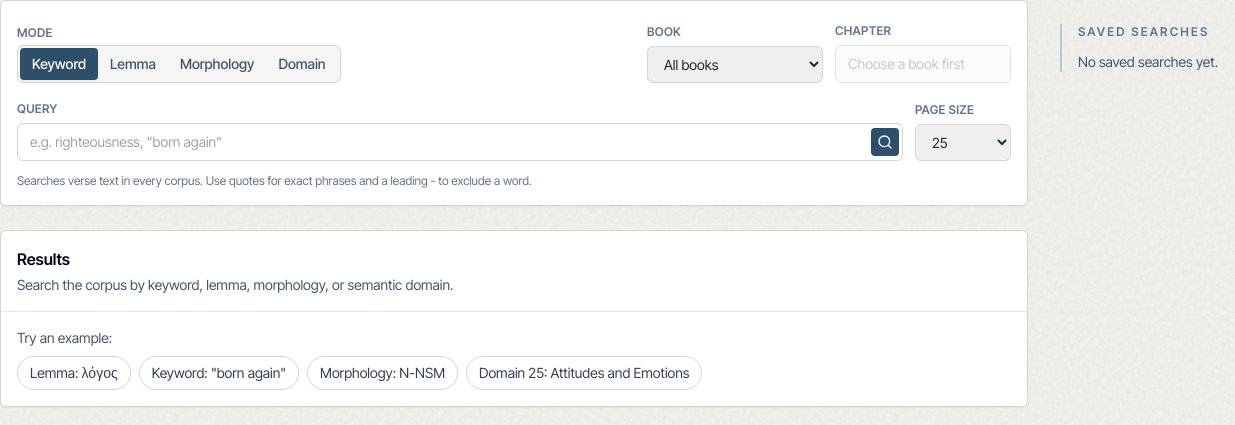
Test: SearchPanel chapter filter › disables chapter until a book is chosen
The image size is (1235, 425).
Expected: the number field with placeholder "Choose a book first" is disabled, [835,45,1011,83]
Select "John" in the dropdown labelled "Book" at (735, 64), box [647,46,823,83]
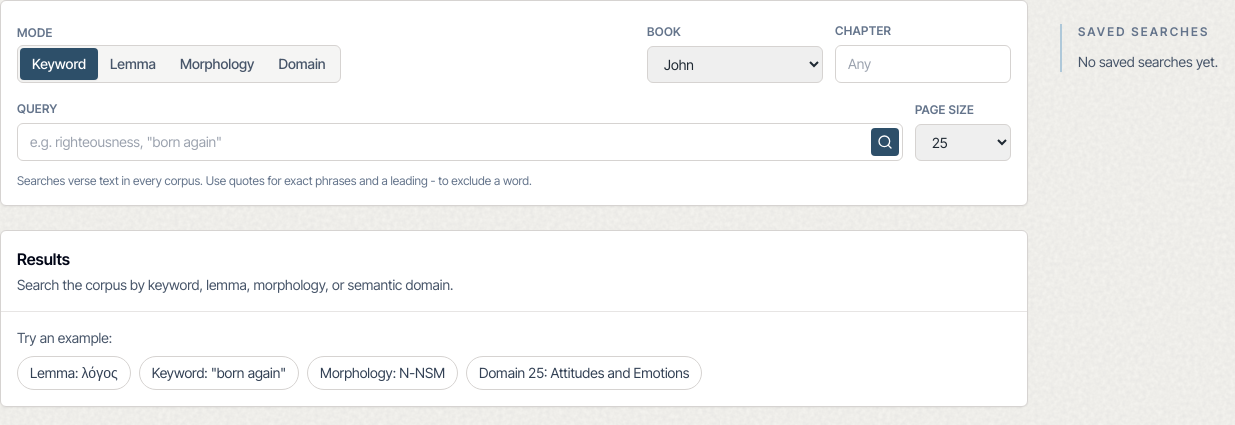
Expected: the number field with placeholder "Any" is enabled, [835,45,1011,83]
